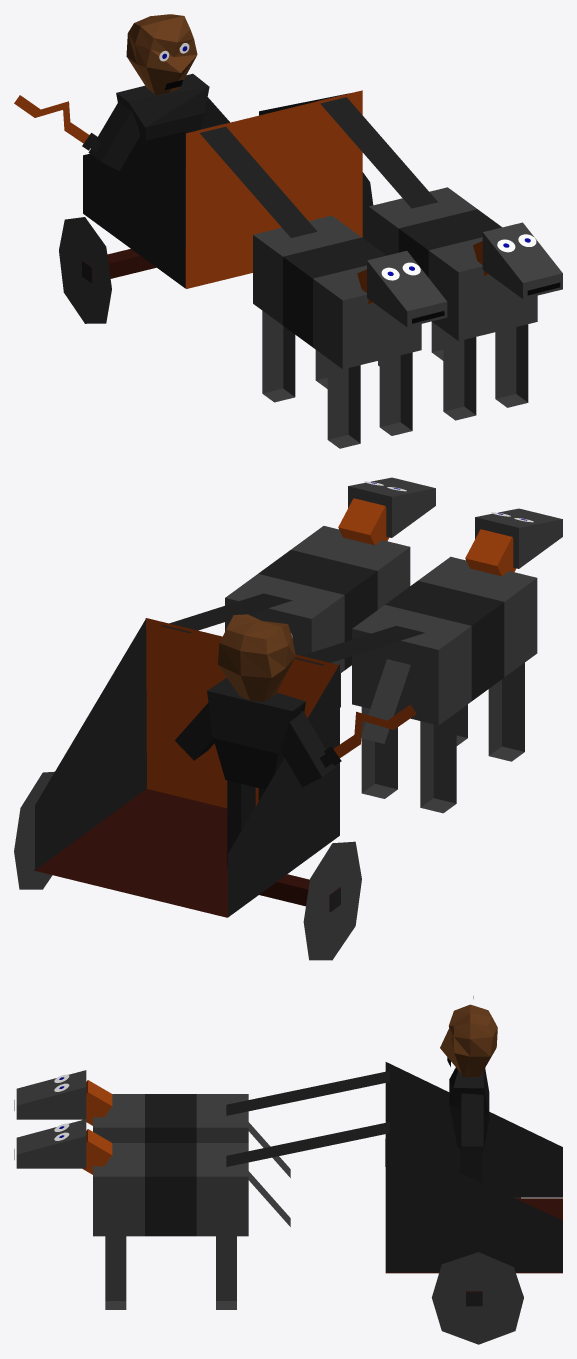
Rendered from heavychariot2fr.obj.
3 renders of one model, top to bottom at view 1: azimuth 30°, elevation 25°; view 2: azimuth 150°, elevation 25°; view 3: azimuth 270°, elevation 25°, orthographic. The views are drawn at different scales.
Visible parts, largest first — view 1: Plane.005_Plane.006, Cube.015_Cube.017, Cube.006_Cube.009, Plane.003, Plane.007_Plane.008, Cube, Cube.001, Cube.014_Cube.016, Cube.021_Cube.023, Plane.012_Plane.013, Plane.013_Plane.014, Cube.019_Cube.021 (+7 smaller); view 2: Cube.015_Cube.017, Plane.002, Plane.004, Cube.006_Cube.009, Plane.005_Plane.006, Plane.003, Cube.001, Cube, Plane.007_Plane.008, Cube.016_Cube.018, Cube.019_Cube.021, Cube.014_Cube.016 (+13 smaller); view 3: Plane.004, Cube.006_Cube.009, Plane.003, Cube.015_Cube.017, Plane.006_Plane.007, Cube, Cube.014_Cube.016, Cube.021_Cube.023, Plane.013_Plane.014, Plane.012_Plane.013, Cube.011_Cube.013, Cube.001 (+6 smaller).
Part boxes in pixels (bbox=[...]): Plane.005_Plane.006: bbox=[186, 90, 362, 288]; Cube.015_Cube.017: bbox=[253, 215, 421, 369]; Cube.006_Cube.009: bbox=[368, 187, 537, 340]; Plane.003: bbox=[83, 131, 184, 287]; Plane.007_Plane.008: bbox=[59, 217, 111, 323]; Cube: bbox=[126, 14, 197, 94]; Cube.001: bbox=[116, 73, 209, 167]; Cube.014_Cube.016: bbox=[482, 222, 562, 298]; Cube.021_Cube.023: bbox=[367, 251, 447, 327]; Plane.012_Plane.013: bbox=[197, 123, 317, 237]; Plane.013_Plane.014: bbox=[318, 94, 437, 208]; Cube.019_Cube.021: bbox=[327, 358, 360, 448]; Cube.015_Cube.017: bbox=[352, 556, 537, 725]; Plane.002: bbox=[33, 789, 227, 917]; Plane.004: bbox=[35, 619, 146, 869]; Cube.006_Cube.009: bbox=[225, 526, 410, 673]; Plane.005_Plane.006: bbox=[145, 618, 338, 808]; Plane.003: bbox=[228, 664, 339, 917]; Cube.001: bbox=[207, 677, 305, 789]; Cube: bbox=[218, 614, 295, 701]; Plane.007_Plane.008: bbox=[303, 841, 361, 960]; Cube.016_Cube.018: bbox=[420, 713, 456, 813]; Cube.019_Cube.021: bbox=[488, 662, 524, 761]; Cube.014_Cube.016: bbox=[348, 477, 435, 537]; Plane.004: bbox=[385, 1138, 562, 1272]; Cube.006_Cube.009: bbox=[93, 1143, 248, 1236]; Plane.003: bbox=[385, 1062, 562, 1197]; Cube.015_Cube.017: bbox=[93, 1094, 248, 1142]; Plane.006_Plane.007: bbox=[431, 1252, 523, 1344]; Cube: bbox=[440, 1004, 497, 1077]; Cube.014_Cube.016: bbox=[16, 1119, 86, 1168]; Cube.021_Cube.023: bbox=[16, 1070, 86, 1119]; Plane.013_Plane.014: bbox=[226, 1122, 389, 1166]; Plane.012_Plane.013: bbox=[226, 1071, 389, 1115]; Cube.011_Cube.013: bbox=[105, 1236, 126, 1309]; Cube.001: bbox=[449, 1067, 489, 1147].
Size of the model in its own units: 9.26 by 7.5 by 14.9.
